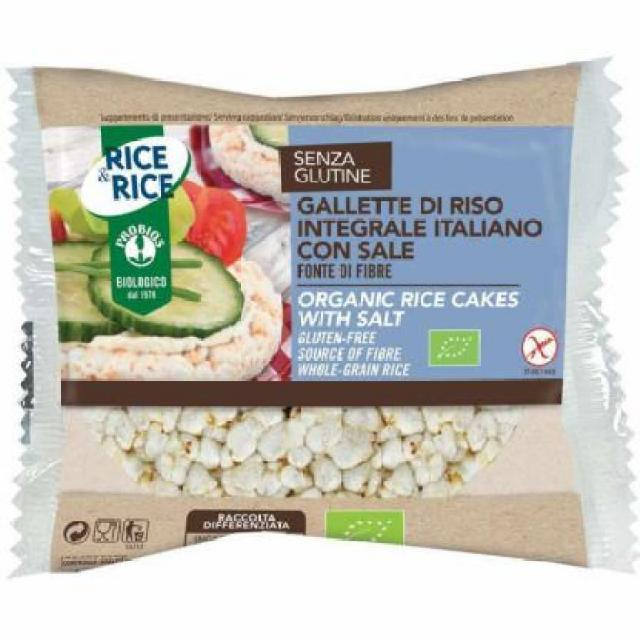Gallette di riso: (2, 64, 640, 582)
